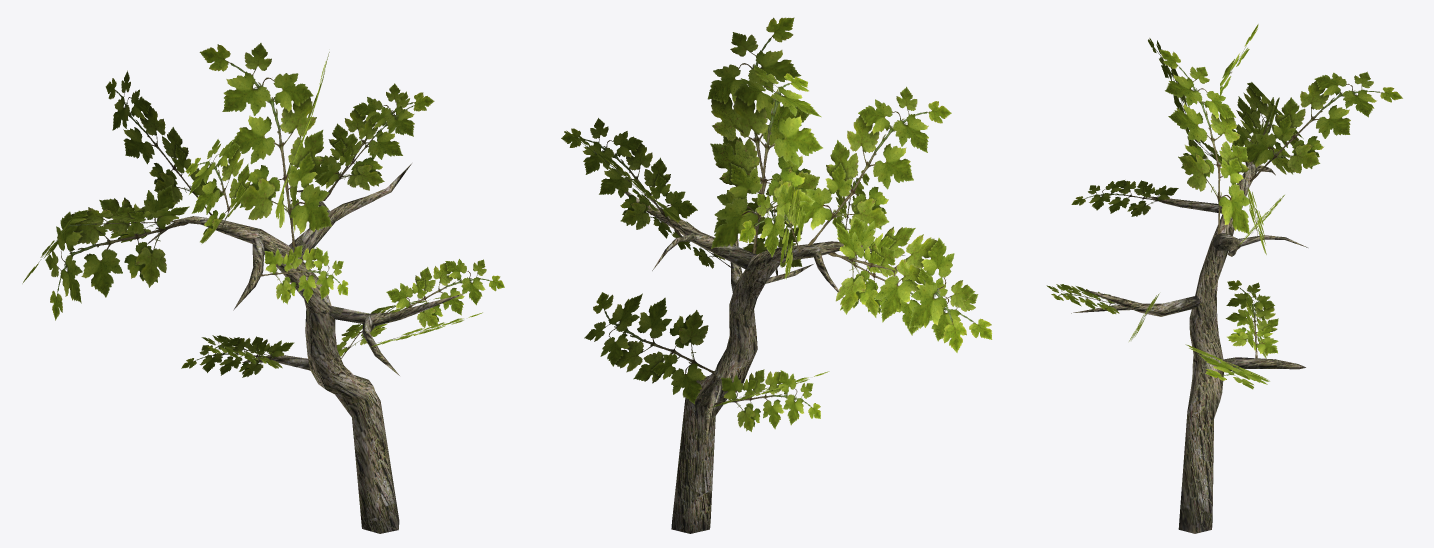
The model's file is grapebush.dae.
3 renders of one model, left to right at view 1: azimuth 30°, elevation 25°; view 2: azimuth 150°, elevation 25°; view 3: azimuth 270°, elevation 25°, orthographic. The views are drawn at different scales.
Parts seen in each view (by area): view 1: grapeBush; view 2: grapeBush; view 3: grapeBush.
Part boxes in pixels (x1,y1,x2,y2): grapeBush: (22, 43, 504, 533); grapeBush: (561, 17, 992, 533); grapeBush: (1046, 24, 1402, 533).
Size of the model in its own units: 0.656 by 0.7522 by 0.5801.
1 material, 1 textured.
